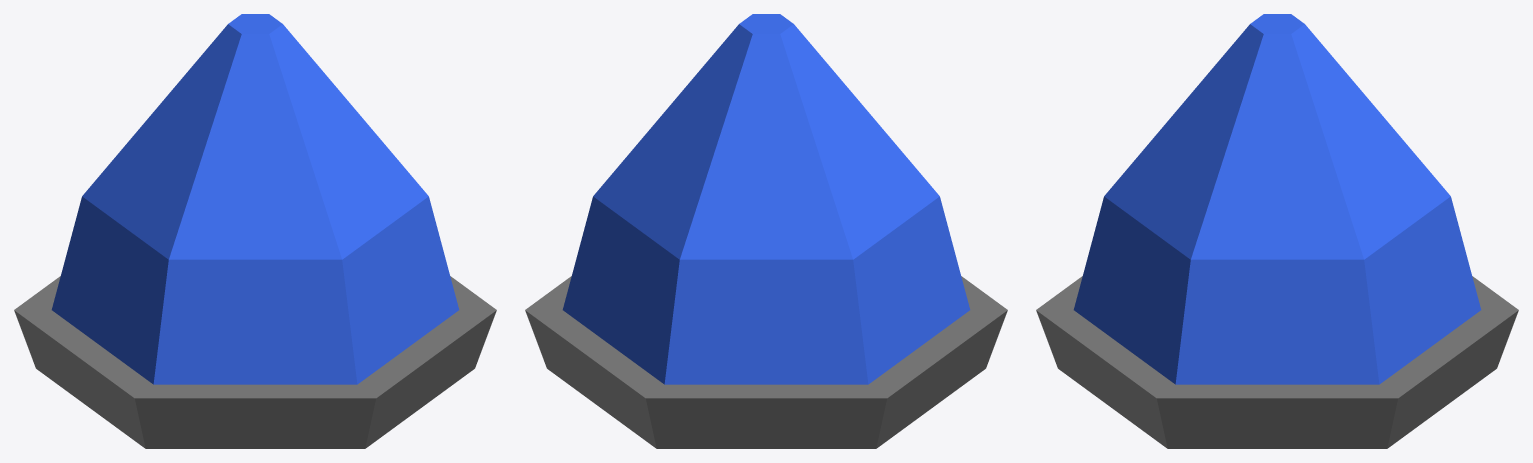
File: slowBaseThirdUpgrade.fbx
3 views of the same model, side by side, from view 1: azimuth 30°, elevation 25°; view 2: azimuth 150°, elevation 25°; view 3: azimuth 270°, elevation 25° (orthographic).
Parts seen in each view (by area): view 1: mergedBlocks; view 2: mergedBlocks; view 3: mergedBlocks.
Boxes of the visible parts, <box> form: mergedBlocks: <box>14,14,496,448</box>; mergedBlocks: <box>525,14,1007,448</box>; mergedBlocks: <box>1036,14,1518,448</box>.
Bounding box in the file's own units: 7.15 × 6.5 × 8.26.
